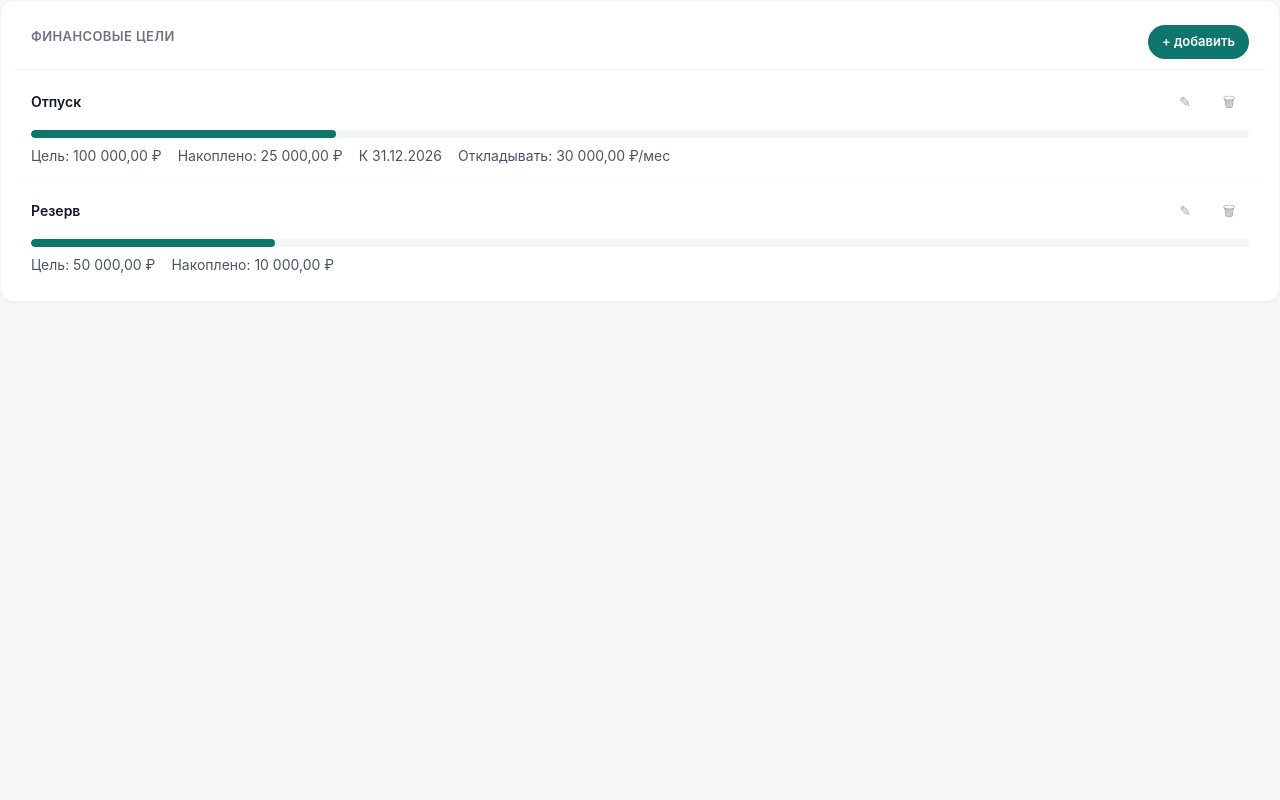
Scenario: GoalsComponent › показывает_ошибку_api_и_оставляет_форму_редактирования_открытой
Click the button named "Редактировать цель".
click(1185, 102)  # box [1165,82,1205,122]
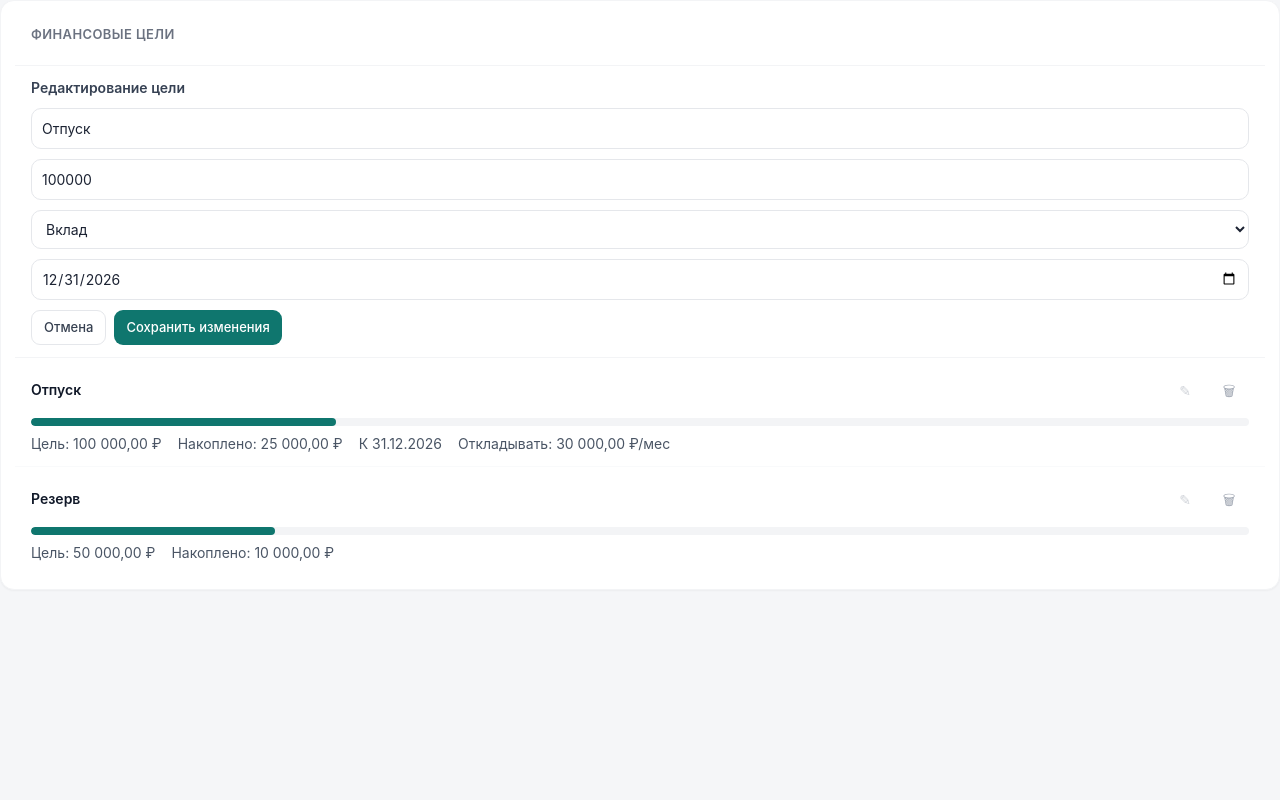
Click the button "Сохранить изменения".
click(198, 327)  # box [114,310,282,345]
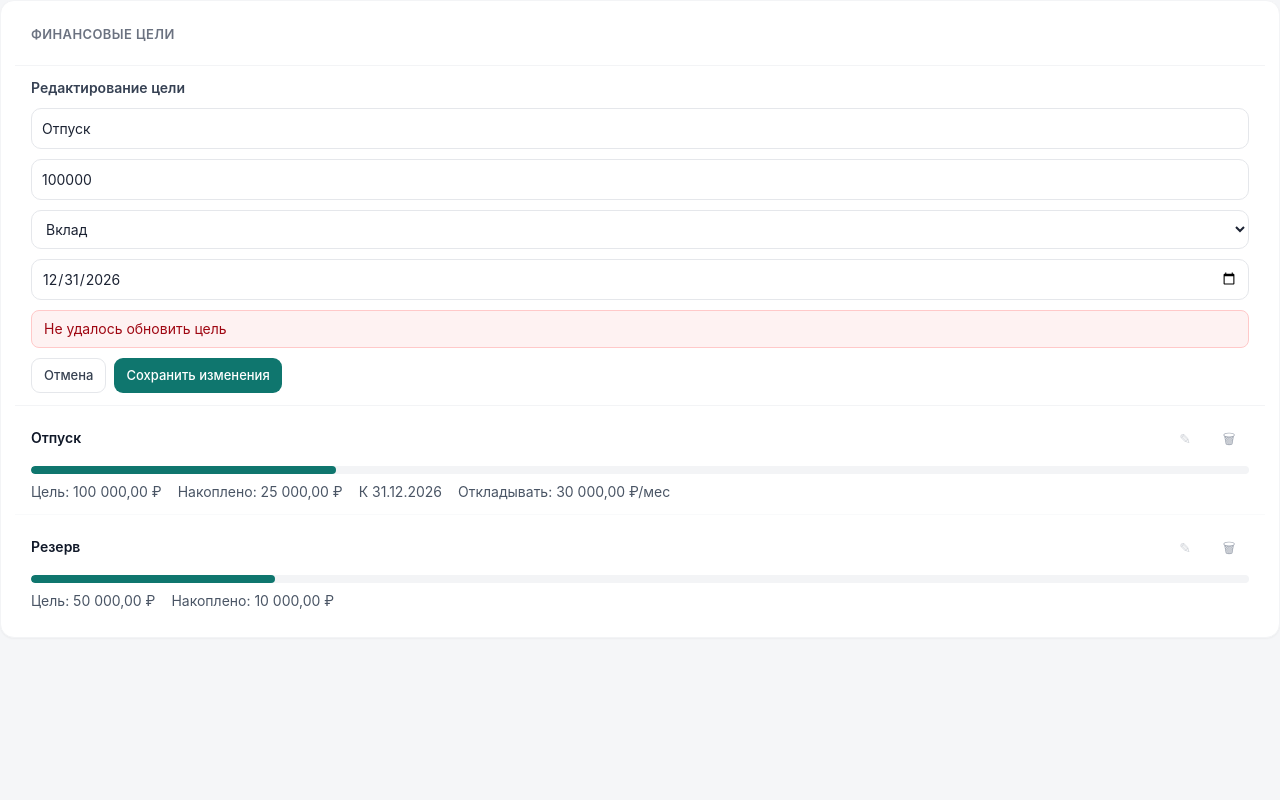
Expected: the text "Редактирование цели" is shown, [31,78,185,96]
Expected: the field named "Название цели" holds "Отпуск", [31,108,1249,148]
Expected: the message "Не удалось обновить цель" is shown, [31,310,1249,348]
